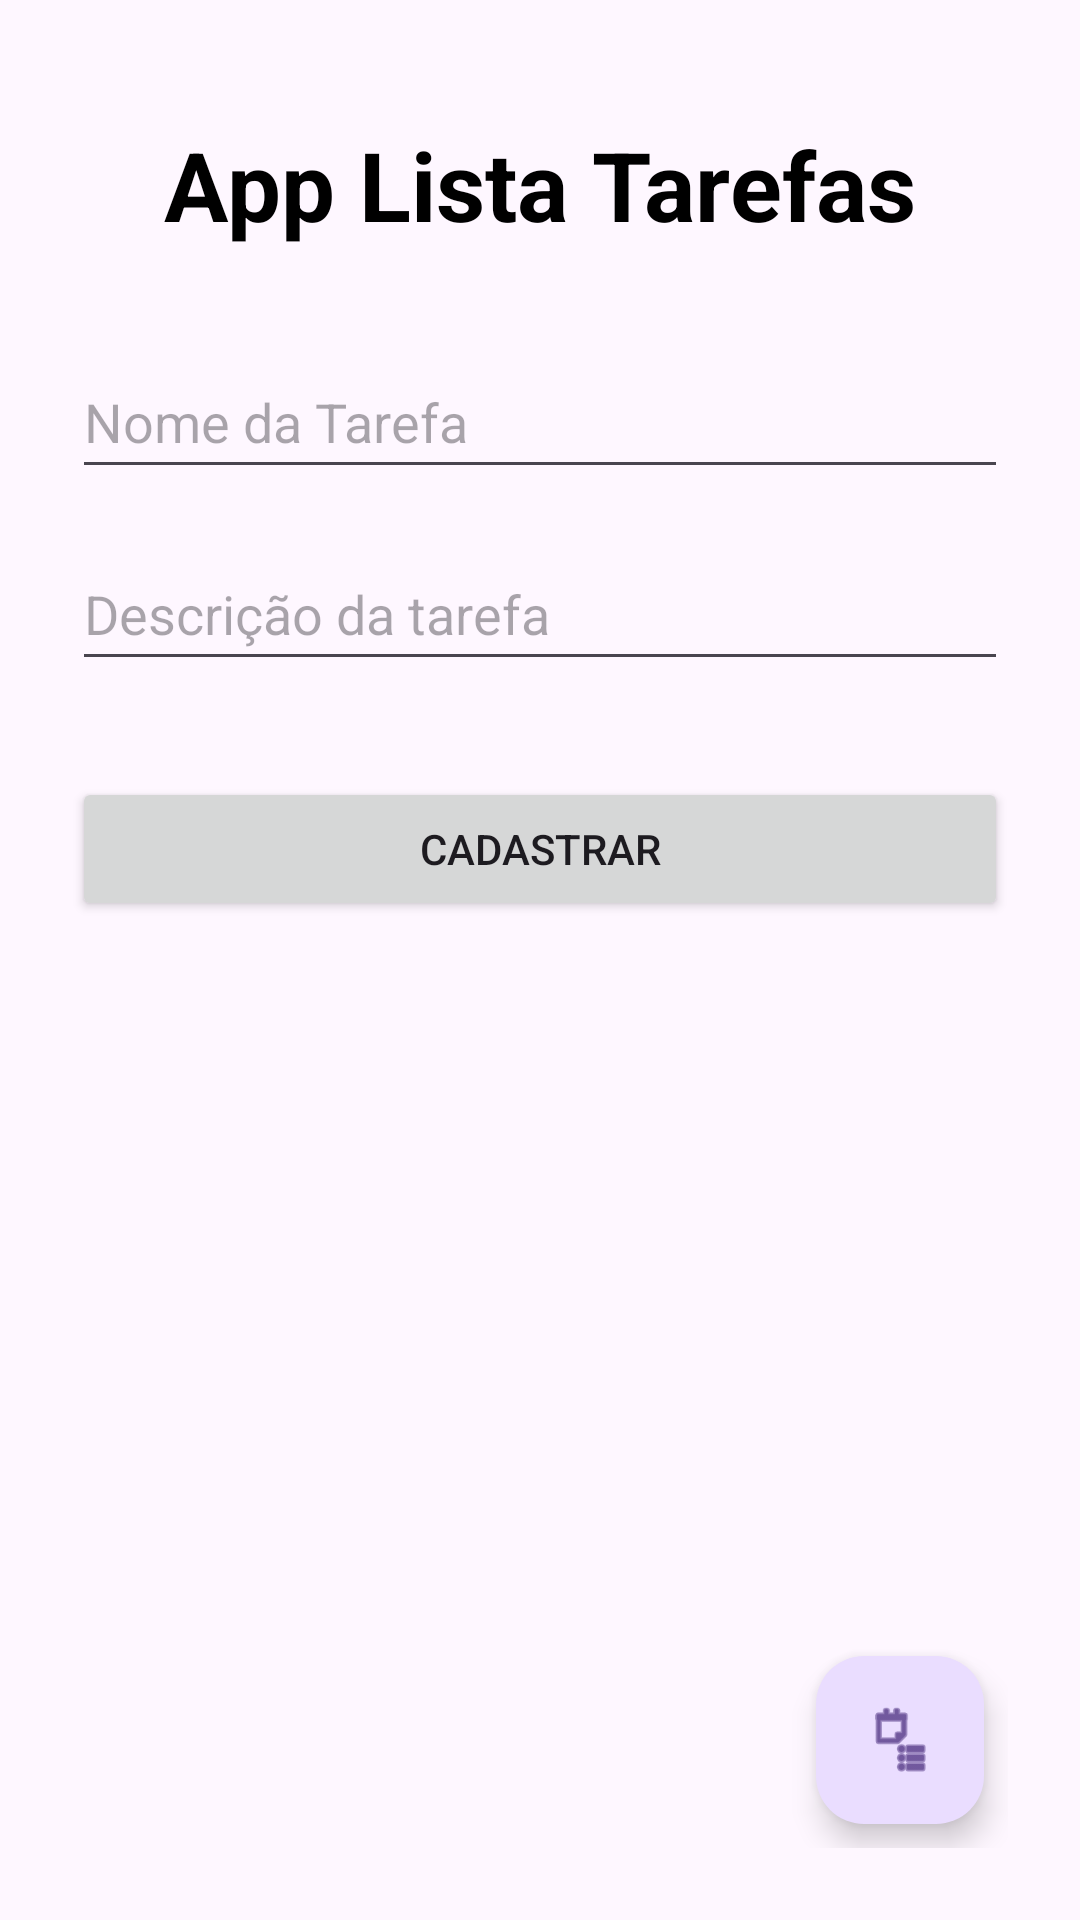

Point at icon controls on the screen. Image size 1080 × 1920, points as (x,y).
Abre Tela Lista: (900,1740)
